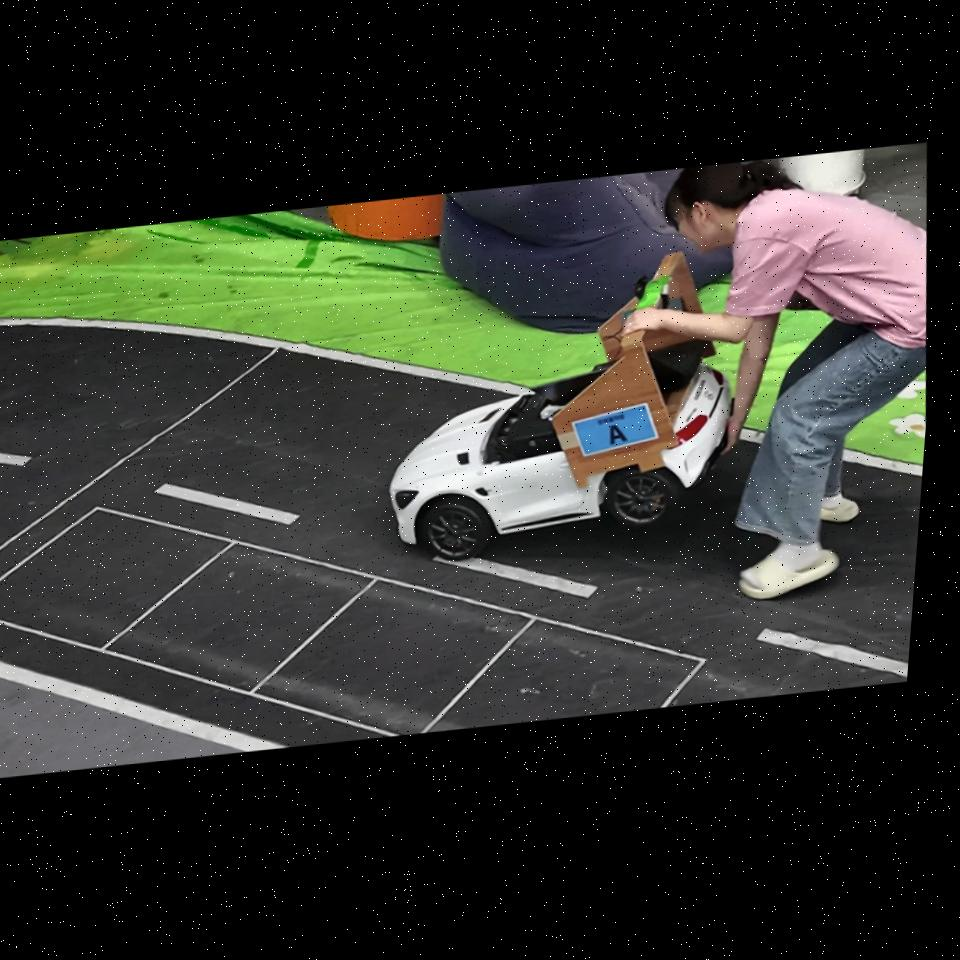broken_line: (757, 628, 908, 678), (433, 557, 597, 598), (155, 484, 299, 524), (0, 453, 32, 466)
